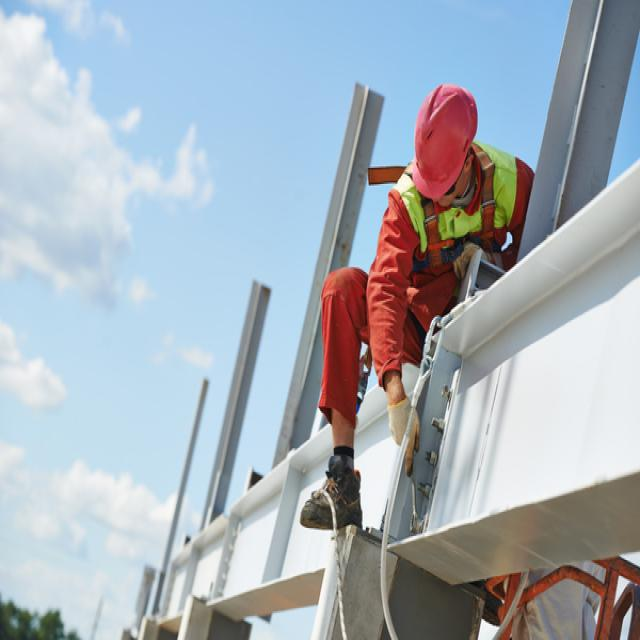Boots: (295, 455, 370, 544)
Gloves: (376, 392, 424, 473), (451, 241, 503, 283)
Hard Hat: (412, 74, 480, 201)
Reflective Vest: (385, 133, 519, 282)
